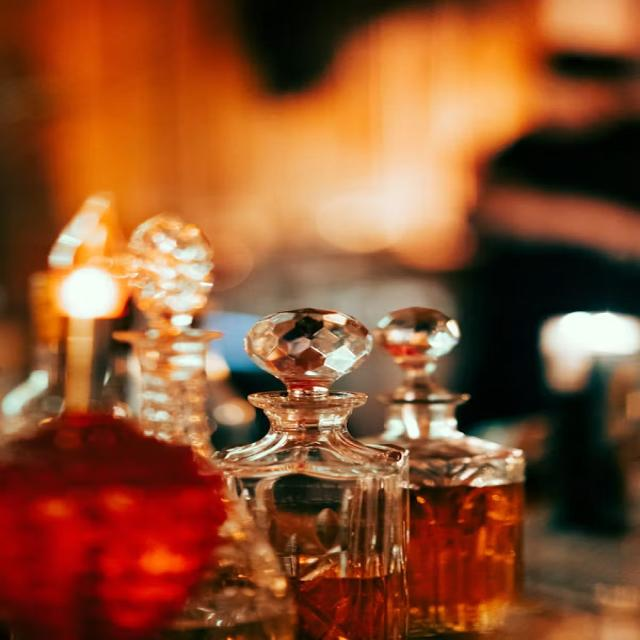Bottle: (217, 309, 407, 639), (376, 308, 524, 637), (117, 216, 220, 475), (0, 272, 63, 435)
